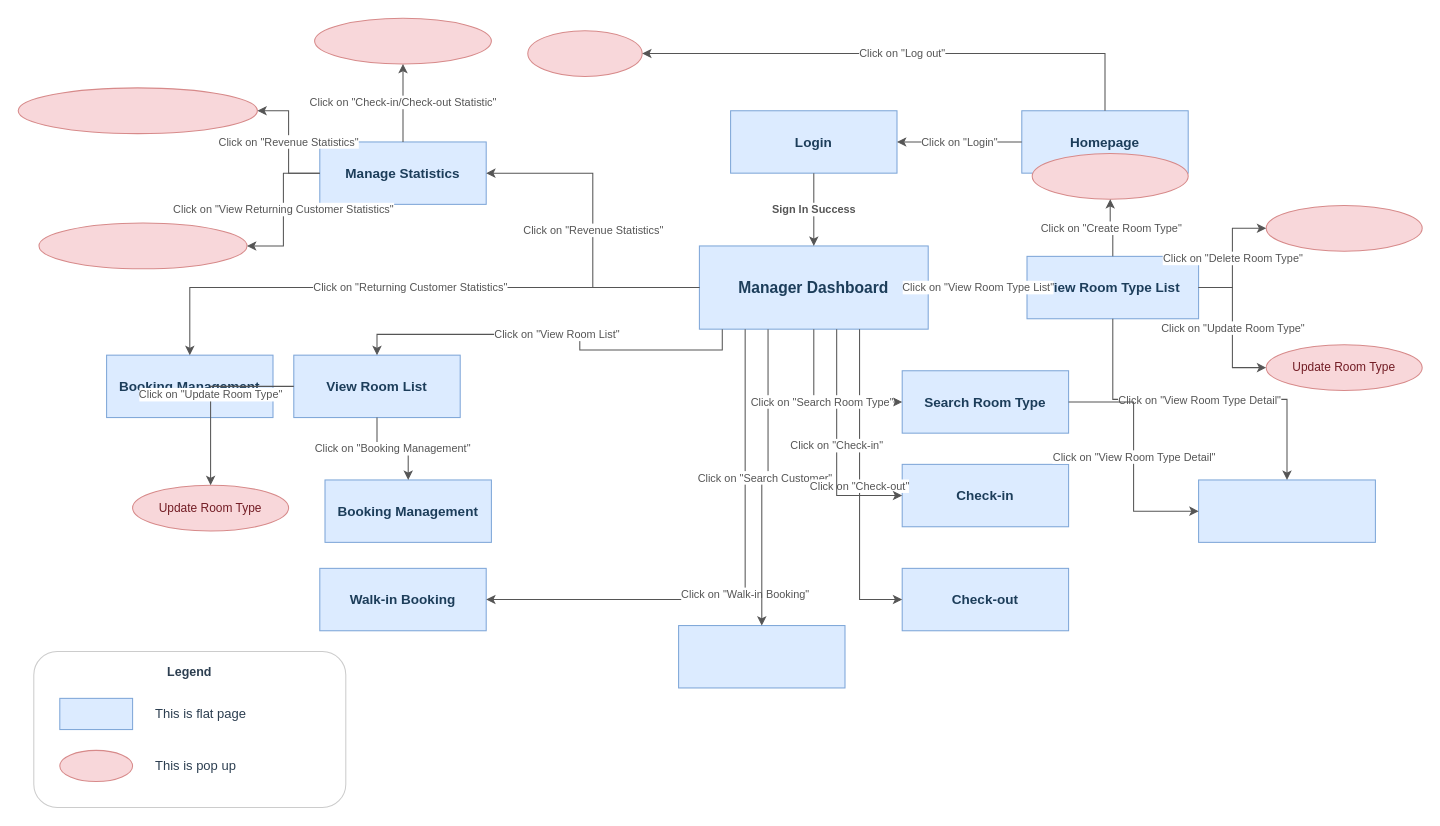
This 1440x826 diagram has some shape labels left out. Each missing label, with the centre of its shape:
Check-in/Check-out Statistics: [402,40]
Create Room Type: [1109,175]
Delete Room Type: [1343,227]
Log out: [584,53]
Search Customer: [761,656]
View Daily/Monthly/Yearly Revenue Statistics: [137,110]
View Returning Customer Statistics: [142,245]
View Room Type Detail: [1286,510]
